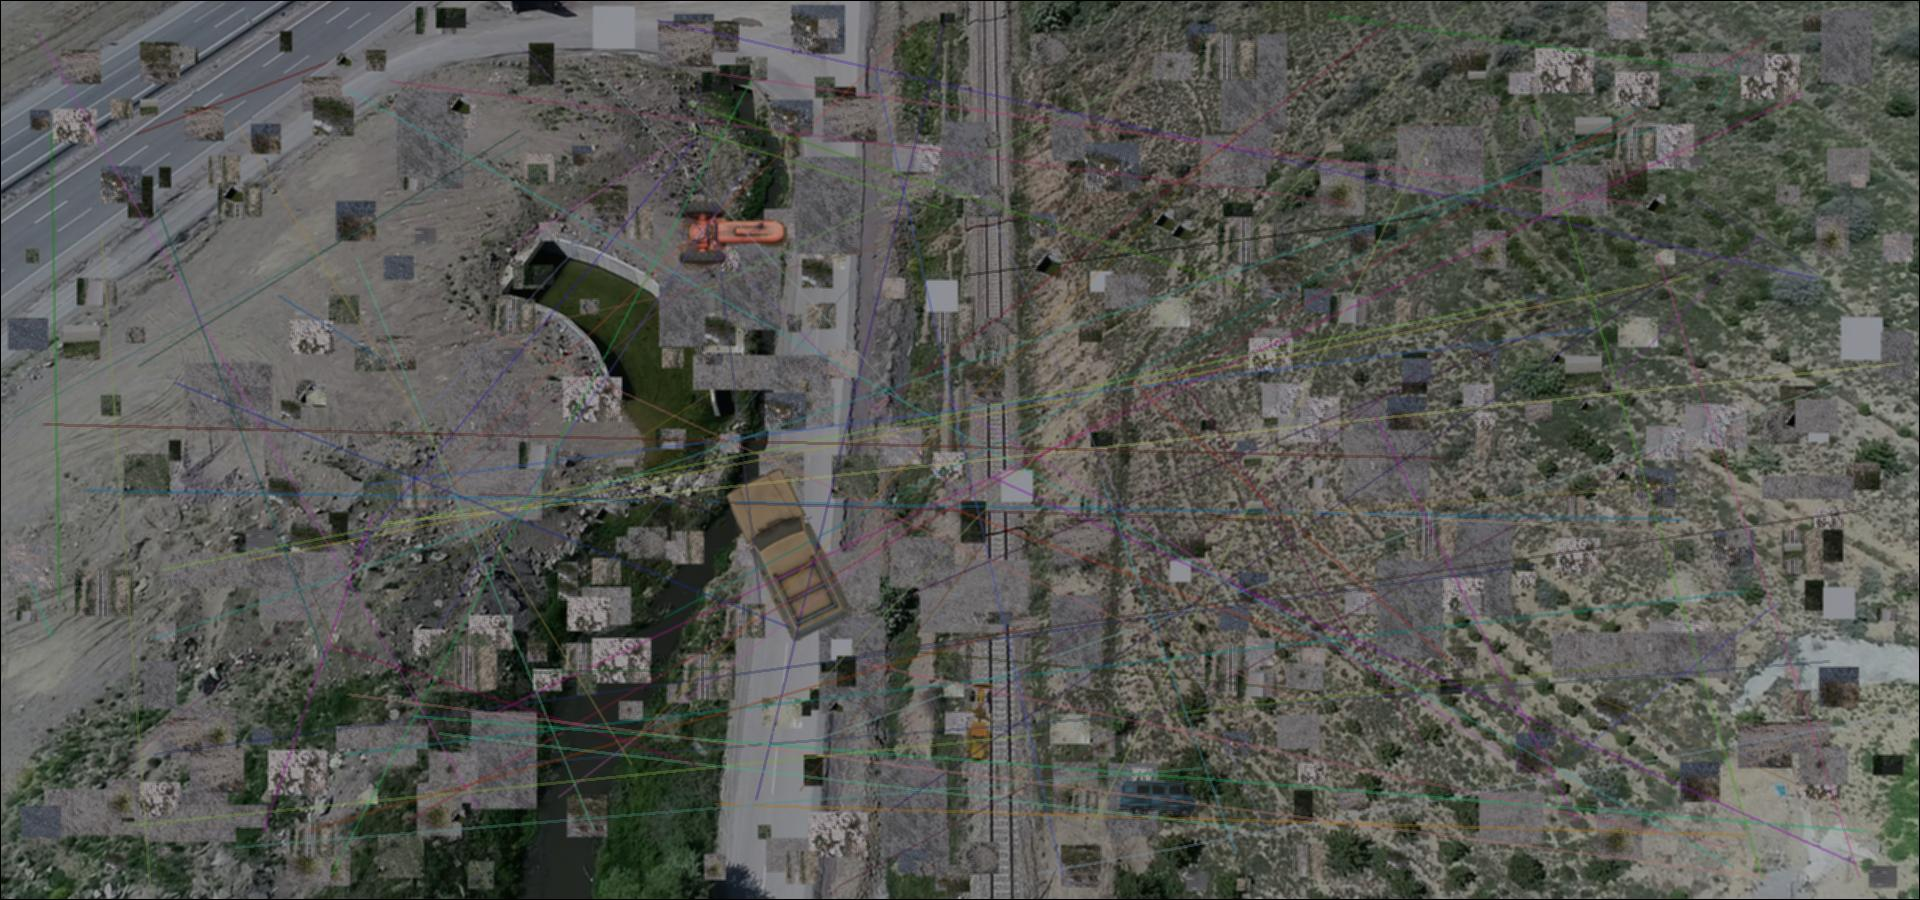arac: (721, 467, 853, 640), (677, 200, 789, 269), (1118, 780, 1196, 820), (964, 681, 996, 763)
